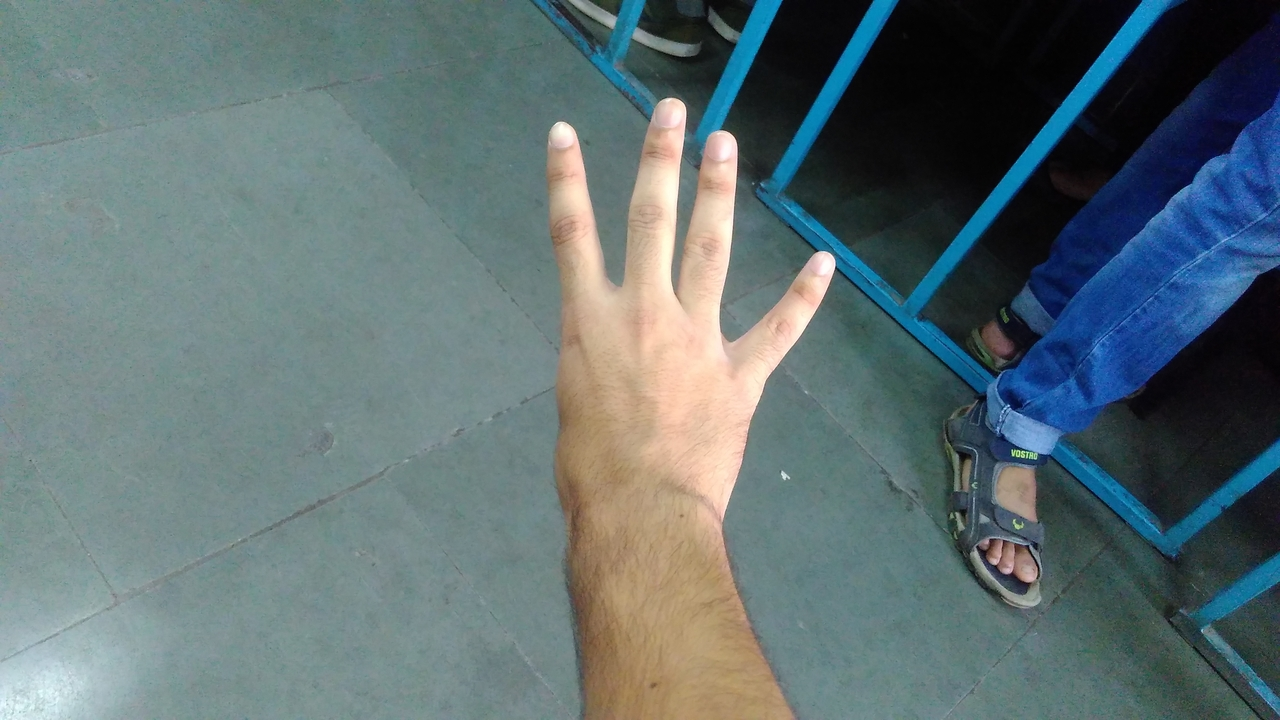fingertip: (784, 242, 856, 298), (638, 84, 694, 138), (692, 120, 748, 174), (536, 106, 586, 158)
